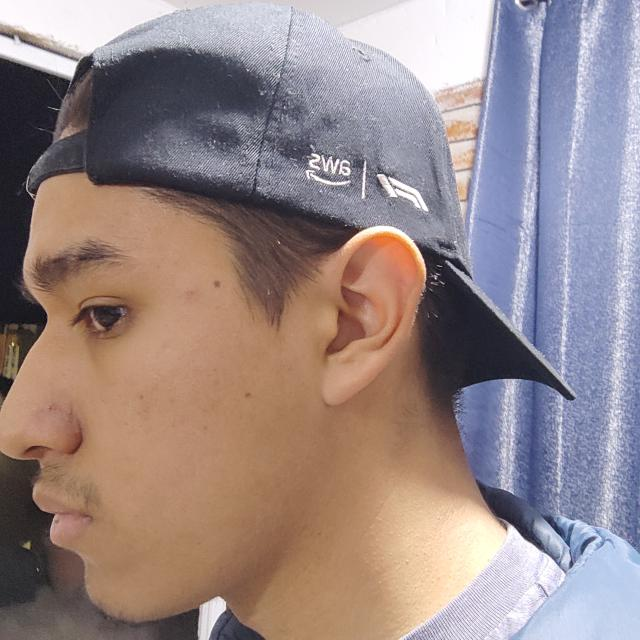ear: (306, 226, 425, 406)
